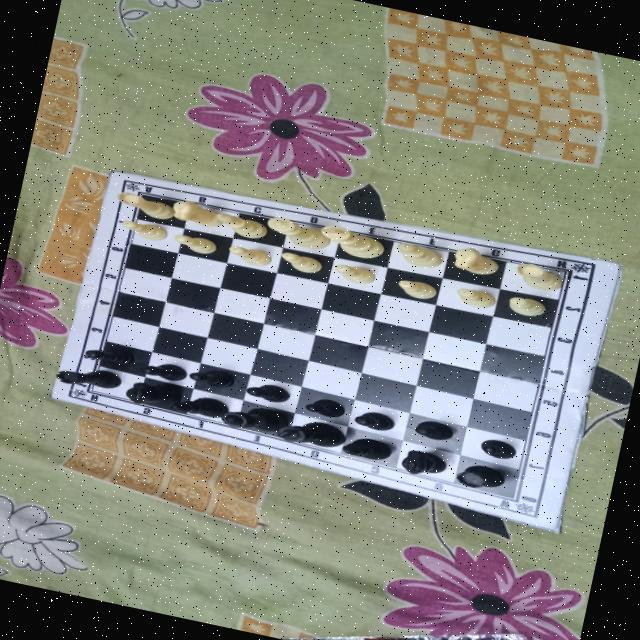corners: (92, 160, 145, 192), (586, 251, 634, 280), (46, 384, 84, 410), (531, 514, 569, 536)
